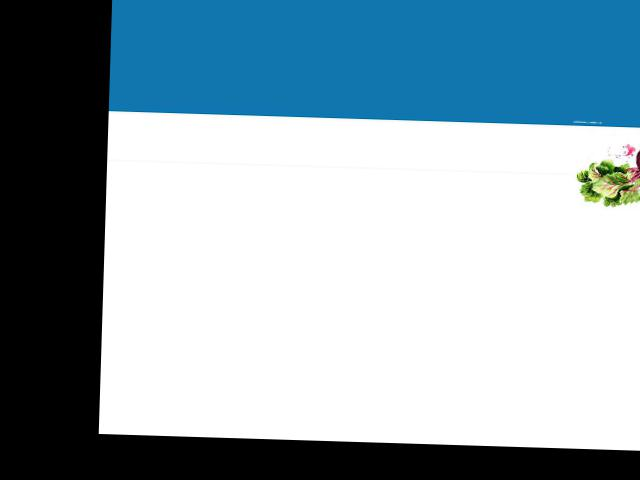beet: (574, 137, 640, 208)
